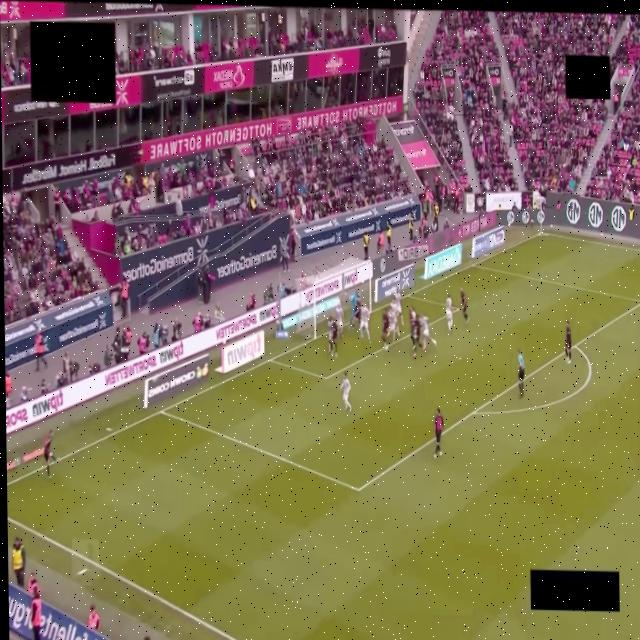player: (410, 308, 423, 359), (43, 431, 56, 478), (419, 316, 435, 349), (434, 409, 443, 458), (390, 300, 401, 336), (393, 286, 403, 325), (340, 373, 350, 411), (349, 291, 359, 328), (359, 303, 369, 340), (387, 305, 396, 344), (334, 302, 343, 336), (460, 288, 468, 322), (330, 318, 337, 356), (565, 320, 571, 364), (445, 296, 452, 330), (382, 310, 388, 349), (328, 316, 334, 355), (409, 307, 416, 324)
referee: (517, 350, 523, 397)
